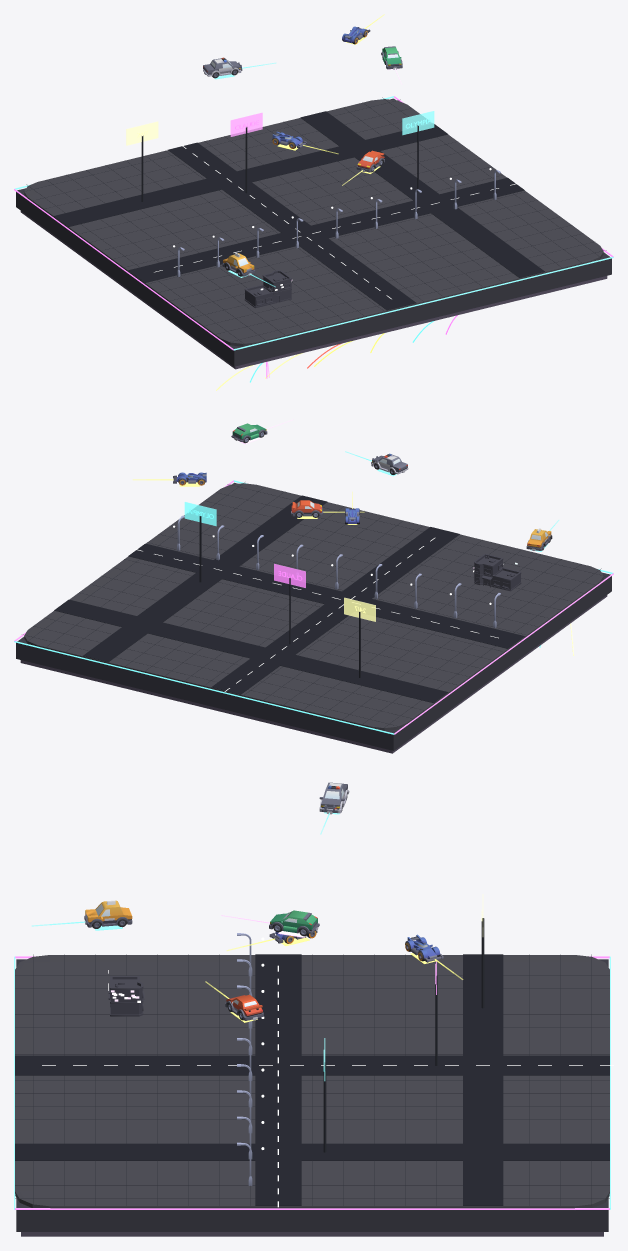
File: cyberpunk.glb
The picture shows the model from 3 angles, top to bottom: view 1: azimuth 30°, elevation 25°; view 2: azimuth 150°, elevation 25°; view 3: azimuth 270°, elevation 25°; orthographic projection. The views are drawn at different scales.
Visible parts, largest first — view 1: flat-pavement, box.001, flat-street, flat-street.001, flat-street.002, flat-street.003, box.002, building-e.001, box, holo.002, holo, holo.001; view 2: flat-pavement, box.001, flat-street.001, flat-street, flat-street.002, flat-street.003, box.002, building-e.001, box.004, holo.001, holo, holo.002 (+2 smaller); view 3: flat-pavement, box.001, flat-street.001, flat-street.003, flat-street, flat-street.002, box.002, building-e.001, box.005, body.010, body.008, body.006 (+1 smaller).
Boxes of the visible parts, x1,y1,x2,y2 form: flat-pavement: [24, 99, 603, 346]; box.001: [16, 98, 611, 366]; flat-street: [128, 177, 524, 282]; flat-street.001: [168, 142, 416, 310]; flat-street.002: [54, 124, 448, 226]; flat-street.003: [300, 111, 544, 277]; box.002: [20, 211, 607, 369]; building-e.001: [244, 270, 291, 308]; box: [233, 256, 613, 350]; holo.002: [126, 121, 158, 145]; holo: [230, 112, 262, 136]; holo.001: [402, 111, 434, 135]; flat-pavement: [24, 483, 603, 730]; box.001: [16, 482, 611, 750]; flat-street.001: [211, 527, 459, 694]; flat-street: [128, 543, 524, 648]; flat-street.002: [54, 599, 448, 702]; flat-street.003: [83, 495, 327, 662]; box.002: [20, 595, 607, 753]; building-e.001: [474, 554, 521, 591]; box.004: [14, 641, 394, 734]; holo.001: [184, 502, 216, 526]; holo: [274, 563, 305, 587]; holo.002: [344, 597, 375, 621]; flat-pavement: [15, 955, 609, 1210]; box.001: [16, 959, 608, 1231]; flat-street.001: [15, 1055, 609, 1075]; flat-street.003: [15, 1143, 609, 1160]; flat-street: [255, 954, 301, 1205]; flat-street.002: [463, 954, 503, 1205]; box.002: [21, 1232, 603, 1236]; building-e.001: [108, 976, 144, 1016]; box.005: [15, 1208, 609, 1209]; body.010: [84, 900, 132, 927]; body.008: [269, 910, 319, 933]; body.006: [319, 782, 349, 813].
Bounding box in the file's own units: 65.81 × 43.06 × 65.81.
Materials: 54 (6 with a texture image).
